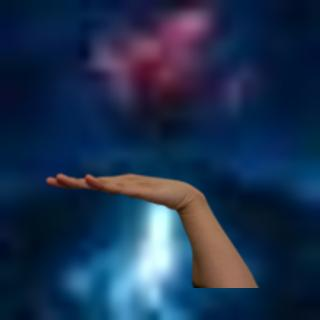WAIT: (40, 163, 198, 214)
